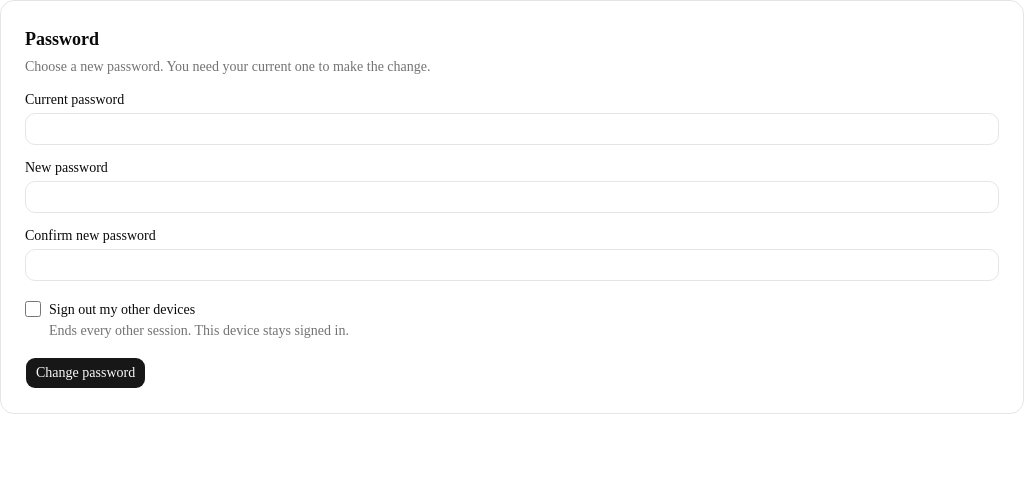
it: ChangePasswordForm › says which password was wrong when the auth server refuses the current one
Type "the first correct password" into the password field labelled "Current password".
click(512, 129); type("the first correct password")  # box [25, 113, 999, 145]
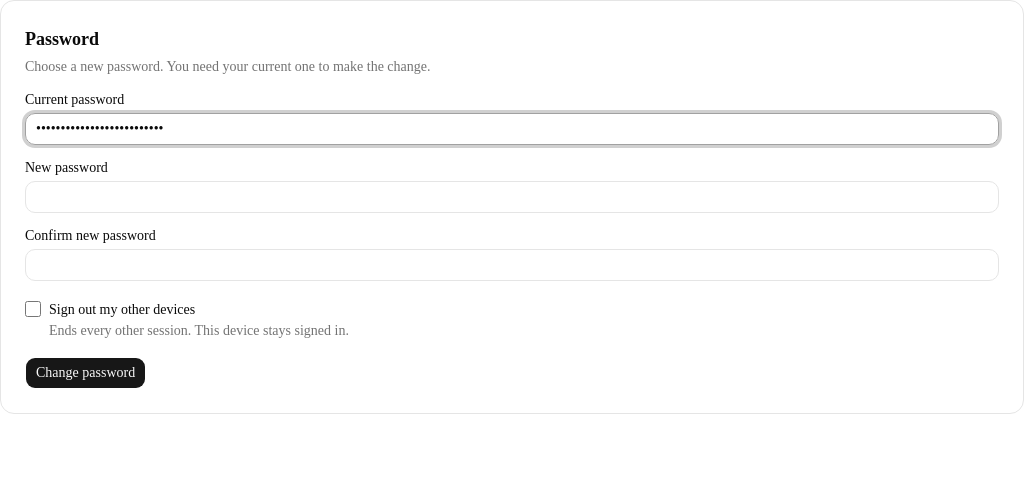
Type "a new long password" into the password field labelled "New password".
click(512, 197); type("a new long password")  # box [25, 181, 999, 213]
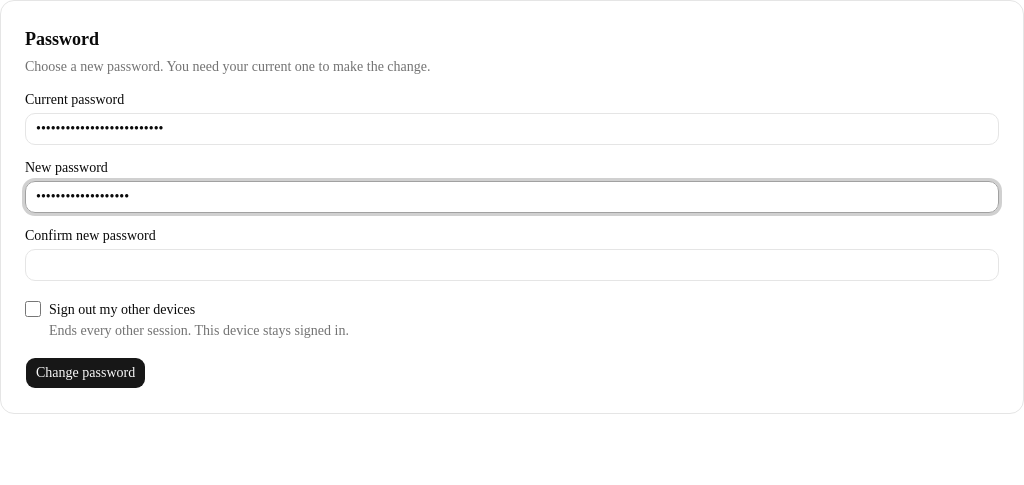
Type "a new long password" into the password field labelled "Confirm new password".
click(512, 265); type("a new long password")  # box [25, 249, 999, 281]
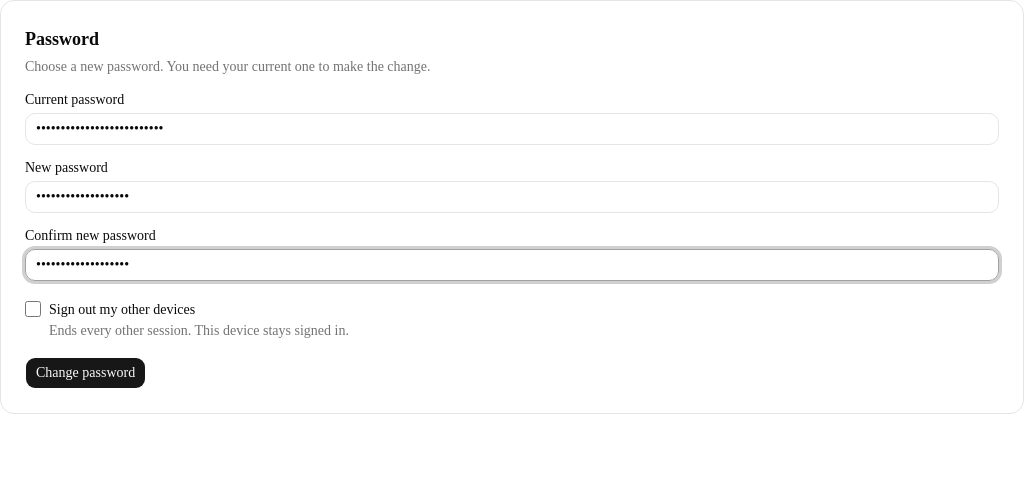
Click the button "Change password".
click(86, 373)  # box [25, 357, 146, 389]
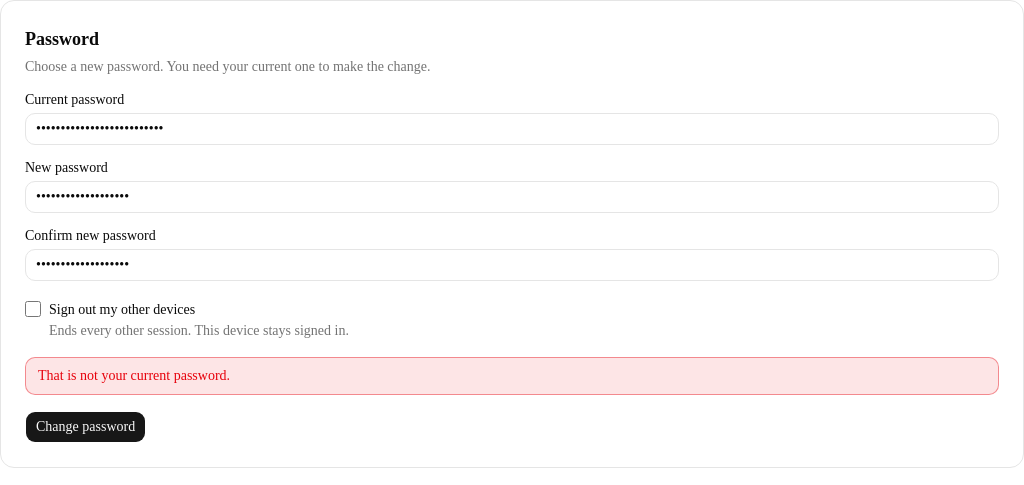
Expected: the text "That is not your current password." is shown, [25, 357, 999, 395]
